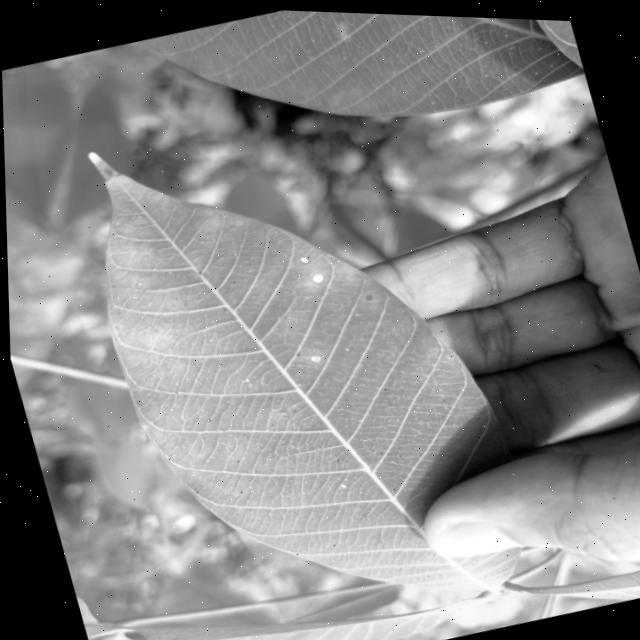Colletotrichum: (308, 269, 324, 283), (307, 350, 321, 362), (296, 252, 308, 263), (363, 290, 371, 298), (133, 279, 142, 286)
Leaf-Blight: (87, 146, 121, 183)
